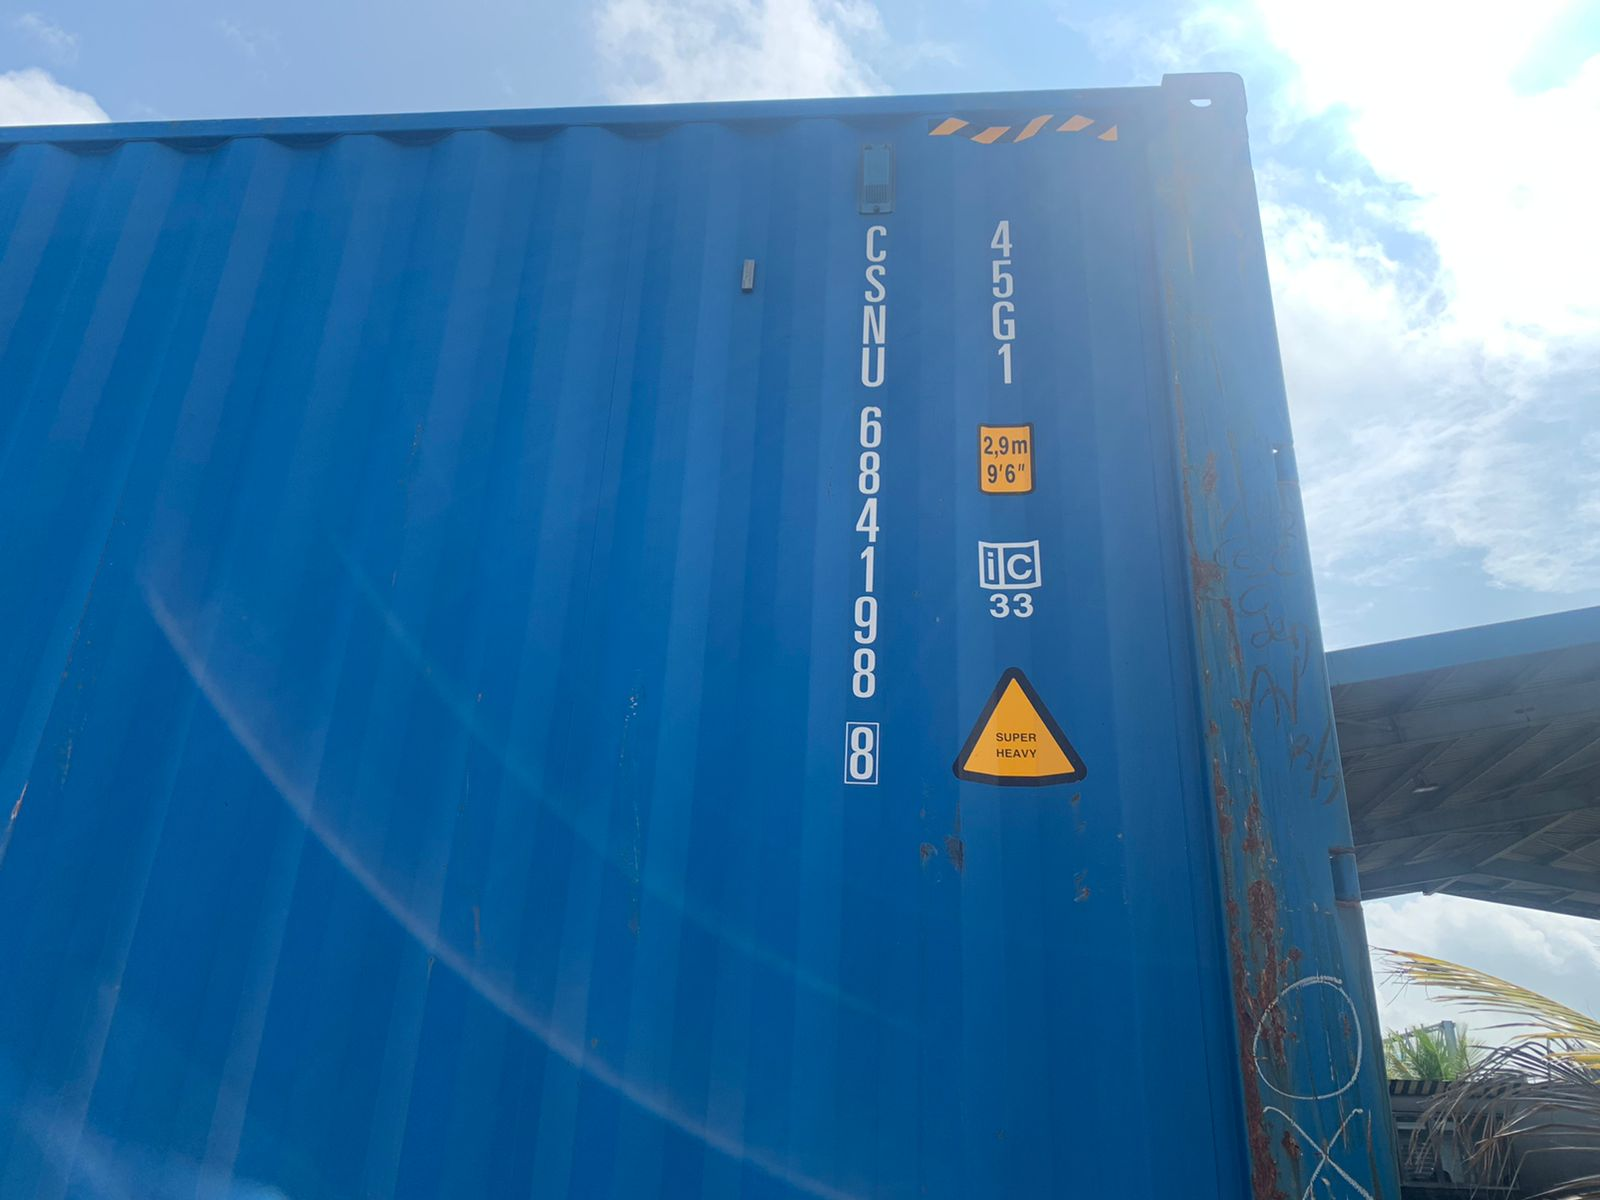minor: (1186, 558, 1301, 1157)
